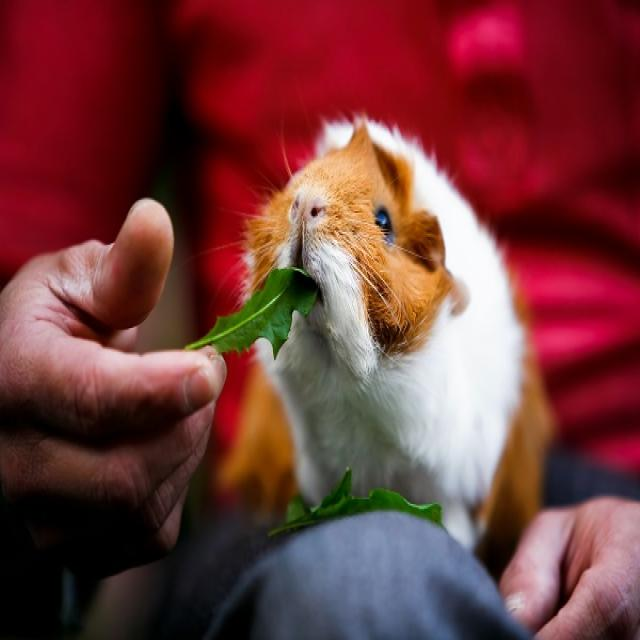guinea pig: (248, 120, 546, 544)
